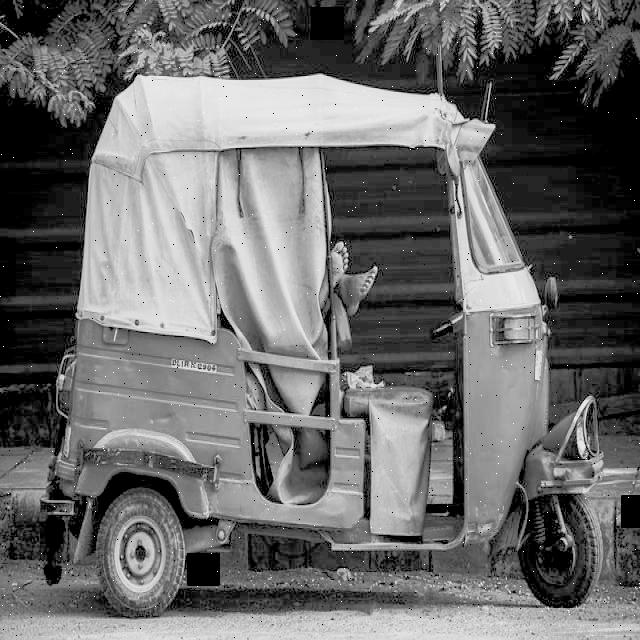Auto-Rickshaw: (41, 42, 609, 610)
